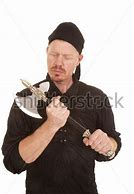axe: (13, 76, 119, 159)
